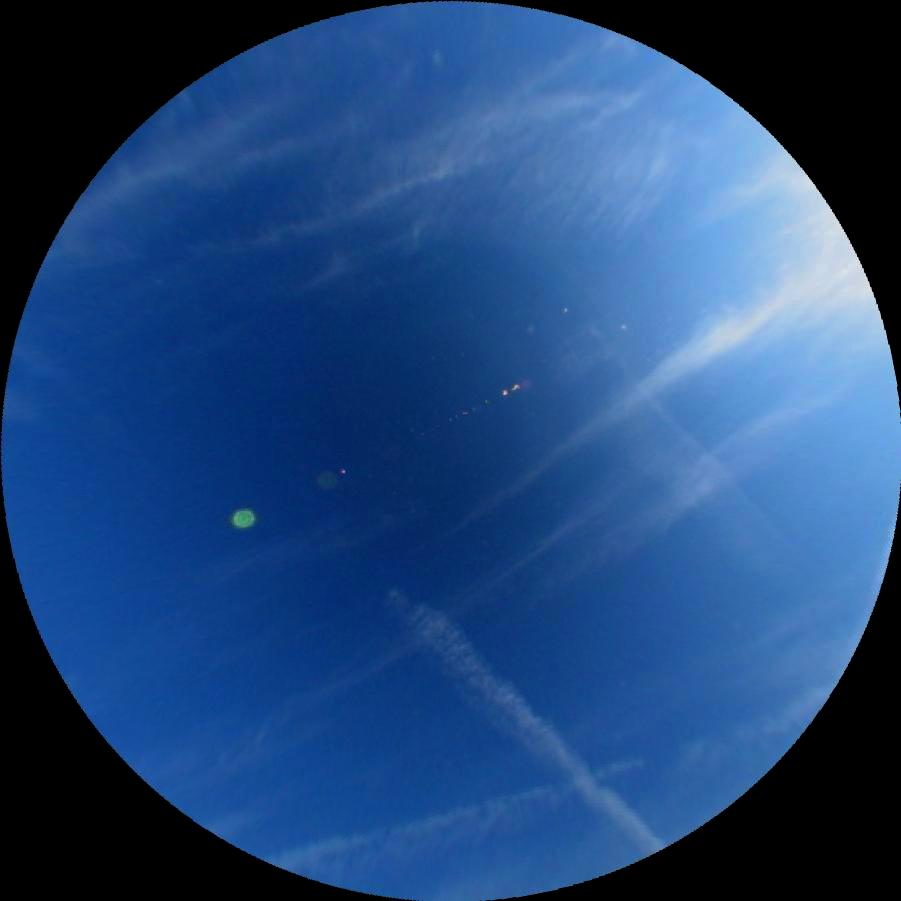contrail veryold: (373, 571, 668, 877), (535, 317, 804, 600)
unknow: (261, 679, 853, 901)
